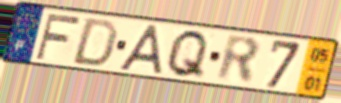7: (267, 37, 303, 91)
A: (116, 23, 164, 77)
D: (69, 17, 121, 69)
F: (33, 11, 84, 61)
Q: (163, 28, 211, 82)
R: (215, 33, 262, 87)
